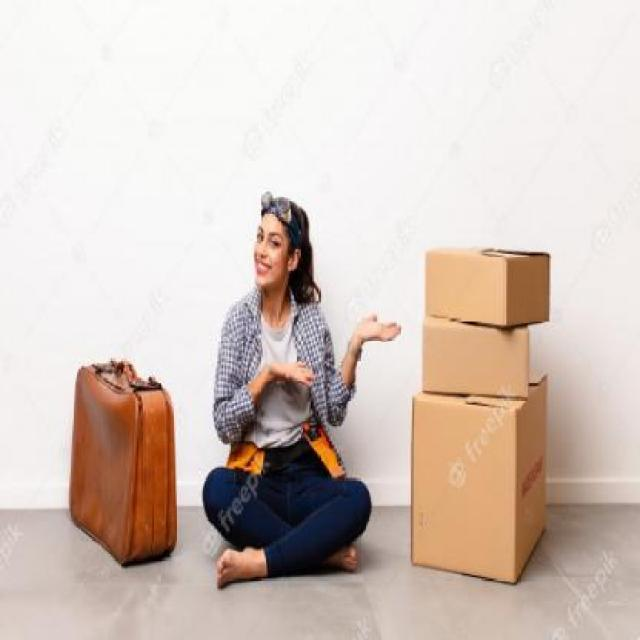box: (414, 372, 548, 588), (425, 239, 551, 328), (418, 318, 526, 403)
